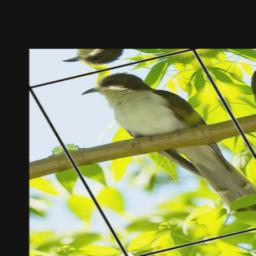Cuckoo: (74, 56, 256, 245)
